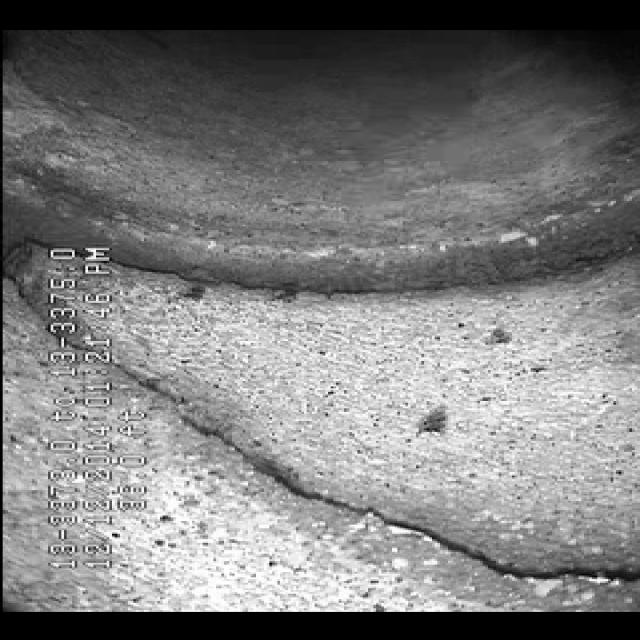Crack: (170, 404, 572, 598)
